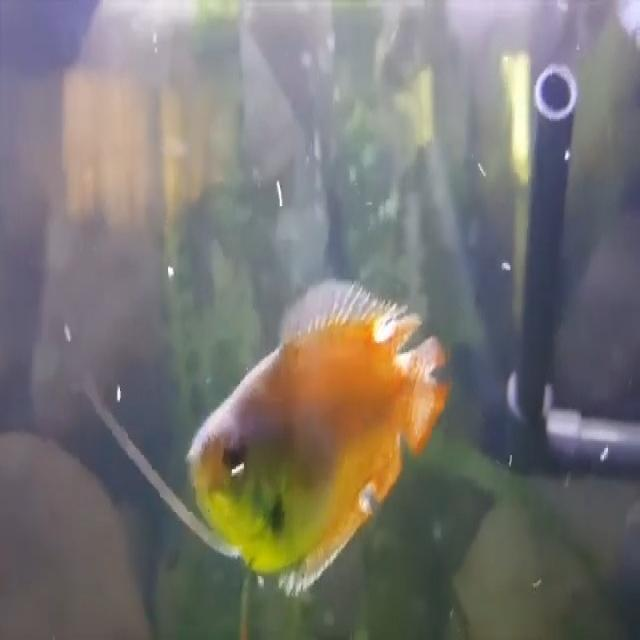fish: (184, 276, 448, 594)
